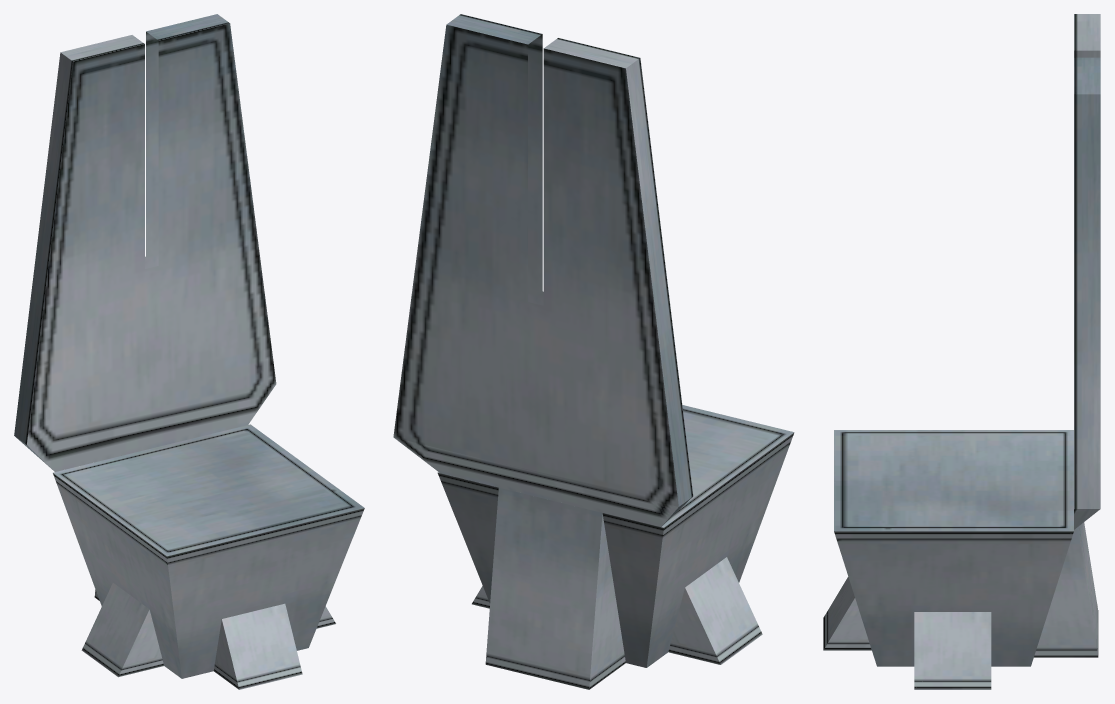
File: frn_all_tech_chair_s01_l1.fbx
3 renders of one model, left to right at view 1: azimuth 30°, elevation 25°; view 2: azimuth 150°, elevation 25°; view 3: azimuth 270°, elevation 25°, orthographic. The views are drawn at different scales.
Visible parts, largest first — view 1: mesh_node; view 2: mesh_node; view 3: mesh_node.
Boxes of the visible parts, x1=… form: mesh_node: x1=14, y1=14, x2=364, y2=689; mesh_node: x1=393, y1=14, x2=794, y2=689; mesh_node: x1=823, y1=14, x2=1100, y2=689.
Size of the model in its own units: 0.7175 by 1.52 by 0.6577.
